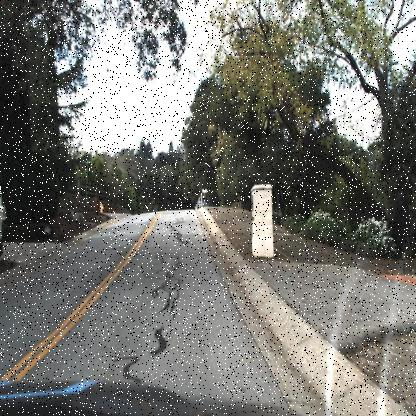car: (194, 188, 211, 212)
